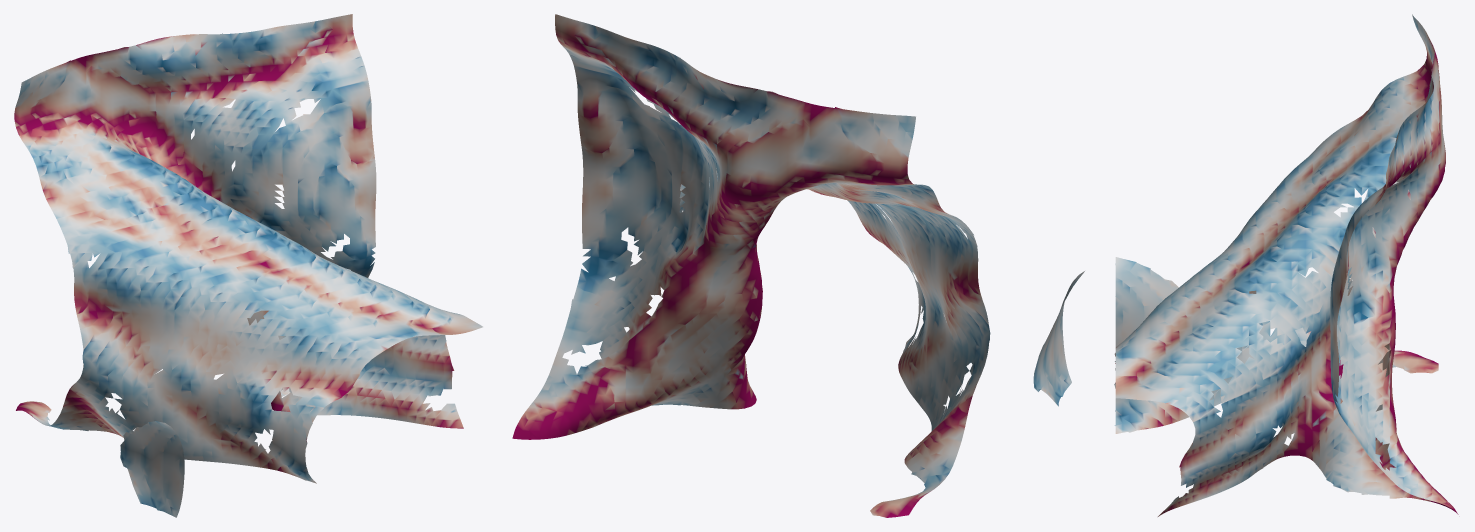
File: crop1033_curvature.glb
3 renders of one model, left to right at view 1: azimuth 30°, elevation 25°; view 2: azimuth 150°, elevation 25°; view 3: azimuth 270°, elevation 25°, orthographic. The views are drawn at different scales.
Visible parts, largest first — view 1: geometry_0; view 2: geometry_0; view 3: geometry_0.
Boxes of the visible parts, <box> form: geometry_0: <box>14,14,482,517</box>; geometry_0: <box>512,14,1084,517</box>; geometry_0: <box>1114,14,1458,516</box>.
Size of the model in its own units: 872 by 871 by 789.
